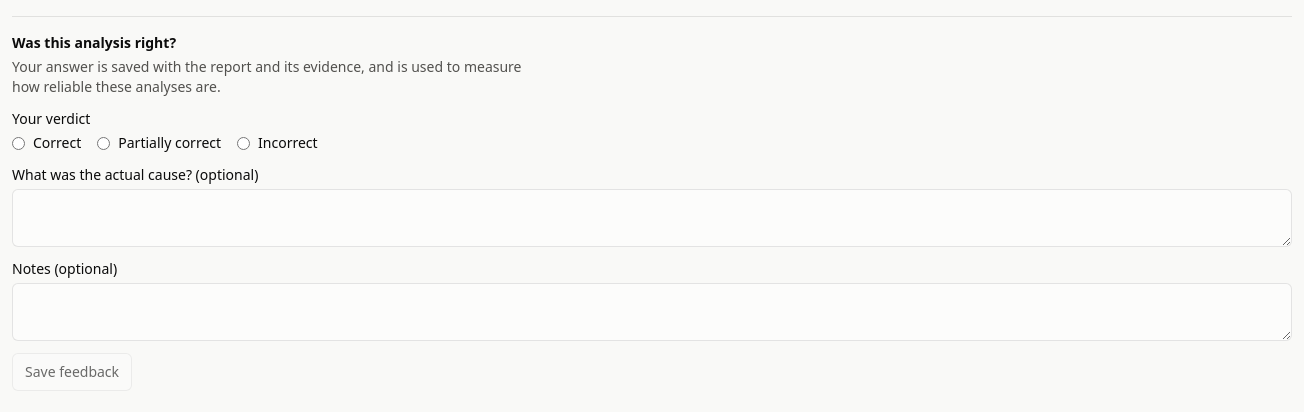
Test: FeedbackSection › saves a verdict with the actual cause
The image size is (1304, 412).
Expected: the button "Save feedback" is disabled, [12, 353, 132, 391]
Click the radio button labelled "Partially correct" at x=104, y=143, box [97, 136, 110, 150]
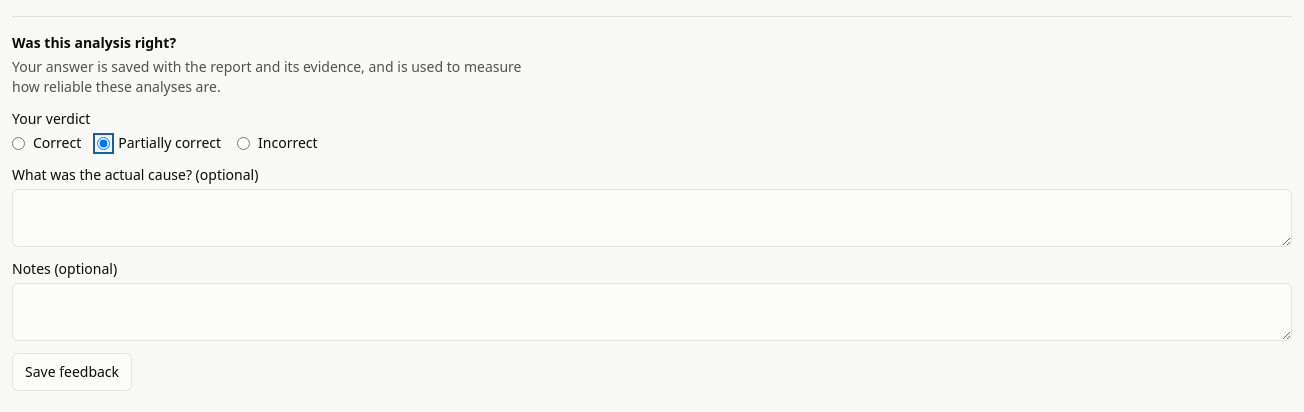
Type "A missing index." into the text box labelled "What was the actual cause? (optional)" at x=652, y=218, box [12, 189, 1292, 247]
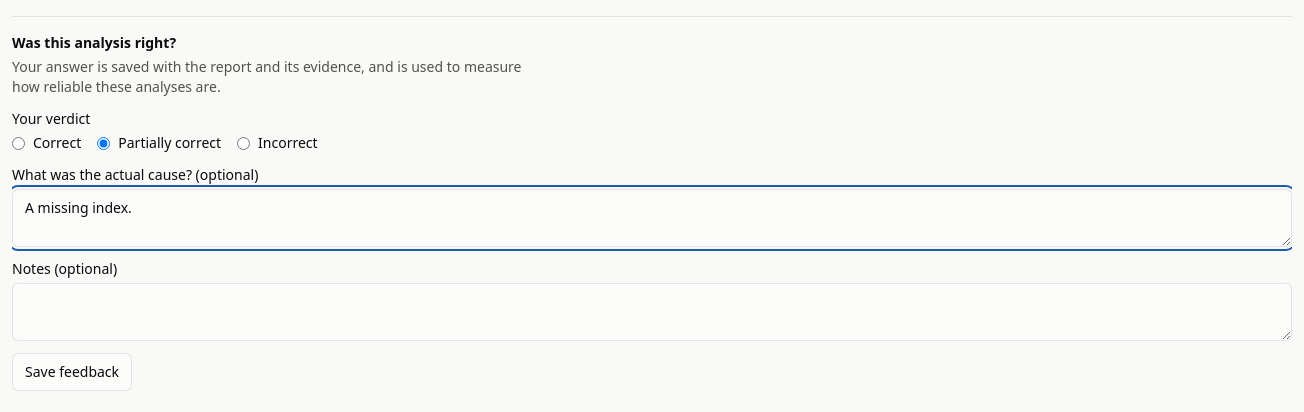
Click the button "Save feedback" at x=72, y=372, box [12, 353, 132, 391]
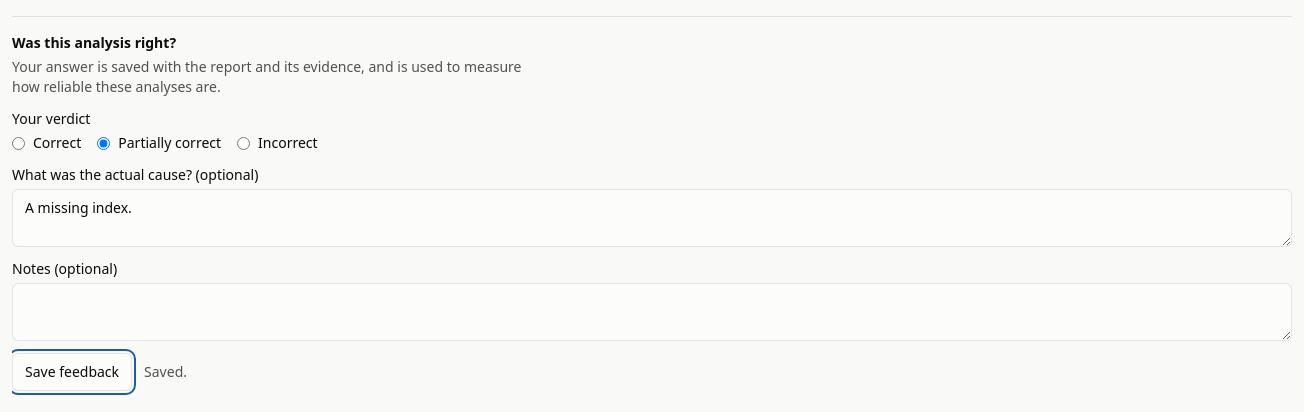
Expected: the text "Saved." is shown, [144, 362, 187, 382]
